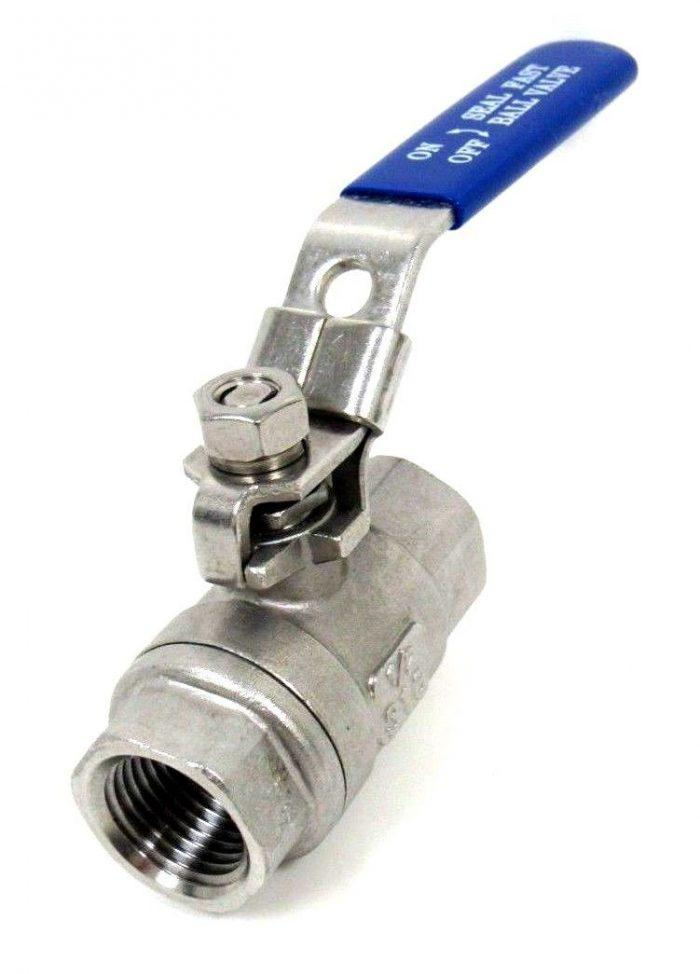opened valve: (64, 31, 636, 921)
